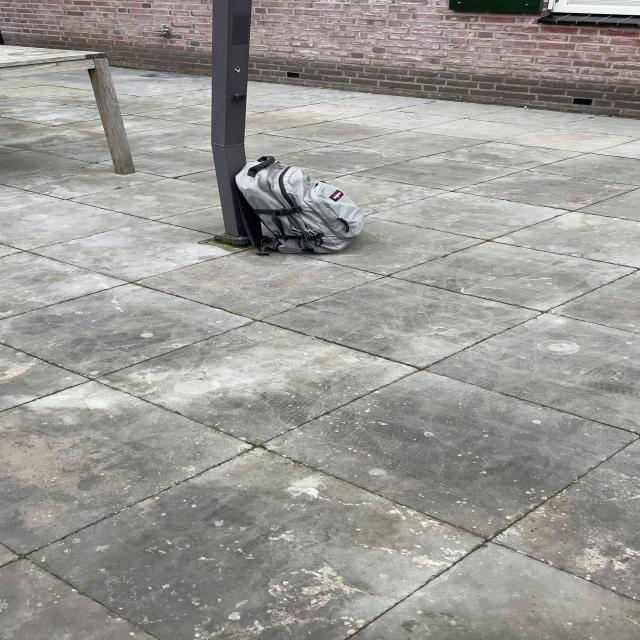backpack: (226, 154, 371, 258)
